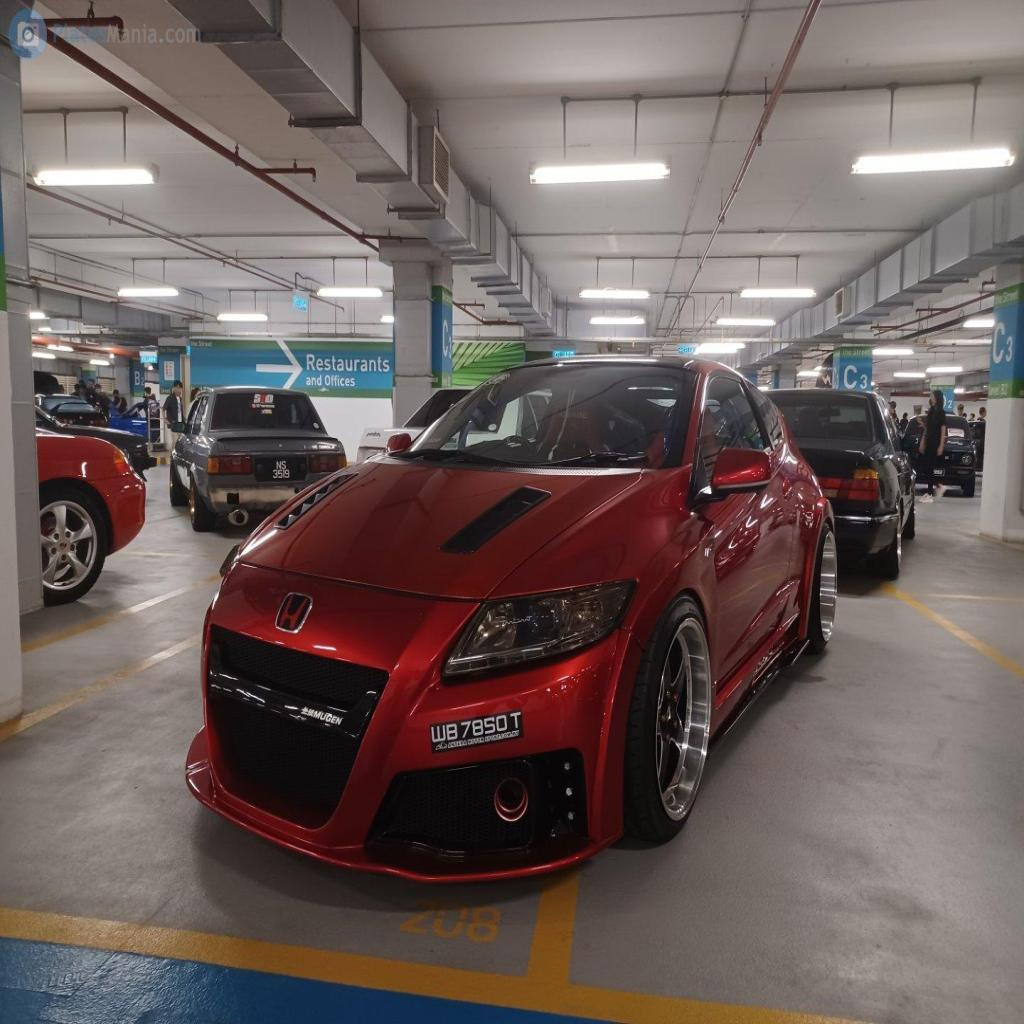car: (187, 357, 836, 878), (169, 387, 345, 529)
car plate: (429, 708, 525, 753), (254, 457, 305, 480)
